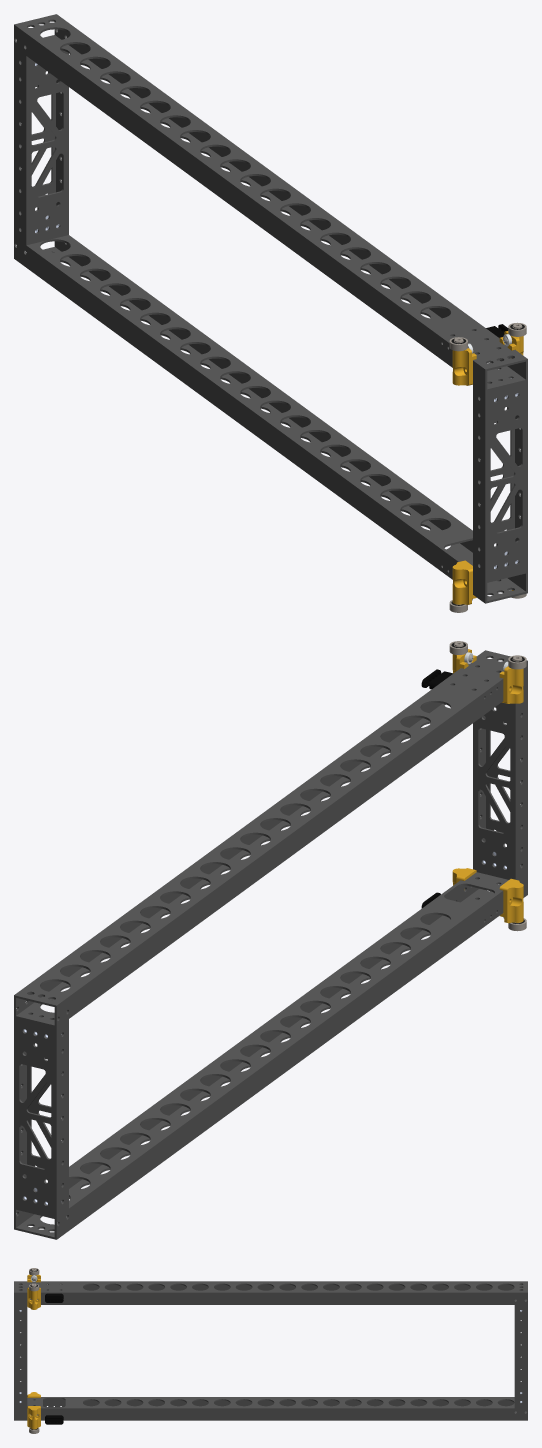
3 views of the same model, one above another, from view 1: azimuth 30°, elevation 25°; view 2: azimuth 150°, elevation 25°; view 3: azimuth 270°, elevation 25° (orthographic). The views are drawn at different scales.
Visible parts, largest first — view 1: 5409-25-P-52001-ELEVATOR-TUBE-A-STAGE-2 v35:1, 5409-25-P-52001-ELEVATOR-TUBE-A-STAGE-2 v35:2, 5409-25-P-52004-ELEVATOR-TUBE-D-STAGE-2 v19:2, 5409-25-P-52004-ELEVATOR-TUBE-D-STAGE-2 v19:1, WCP-0323-001 Rev2:1 (×2); view 2: 5409-25-P-52001-ELEVATOR-TUBE-A-STAGE-2 v35:1, 5409-25-P-52001-ELEVATOR-TUBE-A-STAGE-2 v35:2, 5409-25-P-52004-ELEVATOR-TUBE-D-STAGE-2 v19:1, 5409-25-P-52004-ELEVATOR-TUBE-D-STAGE-2 v19:2, WCP-0323-001 Rev2:1 (×2); view 3: 5409-25-P-52001-ELEVATOR-TUBE-A-STAGE-2 v35:1, 5409-25-P-52001-ELEVATOR-TUBE-A-STAGE-2 v35:2, 5409-25-P-52004-ELEVATOR-TUBE-D-STAGE-2 v19:1, 5409-25-P-52004-ELEVATOR-TUBE-D-STAGE-2 v19:2, WCP-0323-001 Rev2:1 (×2).
Boxes of the visible parts, x1,y1,x2,y2 form: 5409-25-P-52001-ELEVATOR-TUBE-A-STAGE-2 v35:1: (14,14,527,391); 5409-25-P-52001-ELEVATOR-TUBE-A-STAGE-2 v35:2: (14,235,527,603); 5409-25-P-52004-ELEVATOR-TUBE-D-STAGE-2 v19:2: (473,381,527,581); 5409-25-P-52004-ELEVATOR-TUBE-D-STAGE-2 v19:1: (14,47,68,245); WCP-0323-001 Rev2:1 (×2): (452,348,476,604); 5409-25-P-52001-ELEVATOR-TUBE-A-STAGE-2 v35:1: (14,650,527,1027); 5409-25-P-52001-ELEVATOR-TUBE-A-STAGE-2 v35:2: (14,872,527,1239); 5409-25-P-52004-ELEVATOR-TUBE-D-STAGE-2 v19:1: (14,1017,68,1217); 5409-25-P-52004-ELEVATOR-TUBE-D-STAGE-2 v19:2: (473,683,527,879); WCP-0323-001 Rev2:1 (×2): (499,666,523,923); 5409-25-P-52001-ELEVATOR-TUBE-A-STAGE-2 v35:1: (14,1281,527,1304); 5409-25-P-52001-ELEVATOR-TUBE-A-STAGE-2 v35:2: (14,1397,527,1420); 5409-25-P-52004-ELEVATOR-TUBE-D-STAGE-2 v19:1: (514,1305,527,1408); 5409-25-P-52004-ELEVATOR-TUBE-D-STAGE-2 v19:2: (14,1305,27,1408); WCP-0323-001 Rev2:1 (×2): (27,1287,40,1429).
Size of the model in its own units: 0.0916 by 0.3079 by 0.9715.
